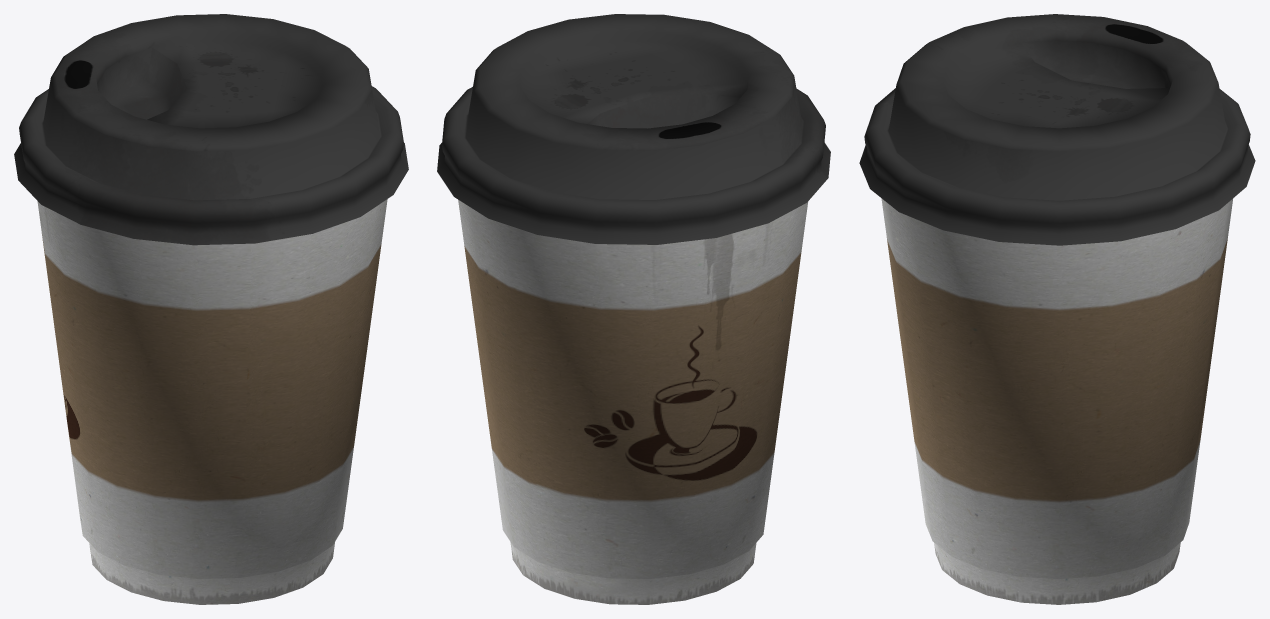
File: cup_low_poly.FBX
3 views of the same model, side by side, from view 1: azimuth 30°, elevation 25°; view 2: azimuth 150°, elevation 25°; view 3: azimuth 270°, elevation 25° (orthographic).
Visible parts, largest first — view 1: low_poly; view 2: low_poly; view 3: low_poly.
Part boxes in pixels (x1,y1,x2,y2): low_poly: (14, 14, 408, 604); low_poly: (437, 14, 830, 604); low_poly: (859, 14, 1255, 604).
Size of the model in its own units: 11.75 by 15.5 by 11.75.
